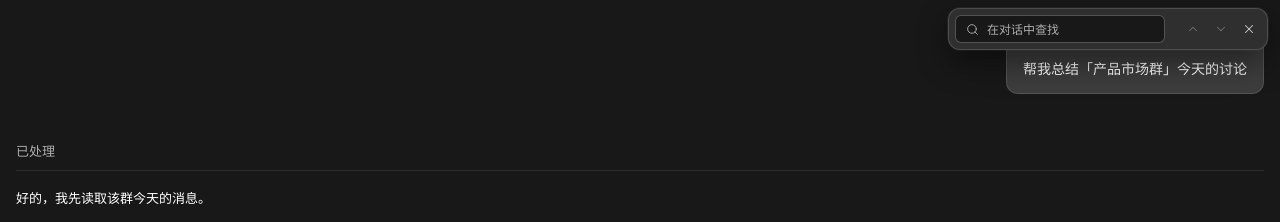
it: rewind, fork and find › opens the find bar on request, reports no results, and closes with Esc
Type "找不到的词" into the search field labelled "在对话中查找" at (1072,29), box top-left (987, 16), bottom-right (1158, 42)
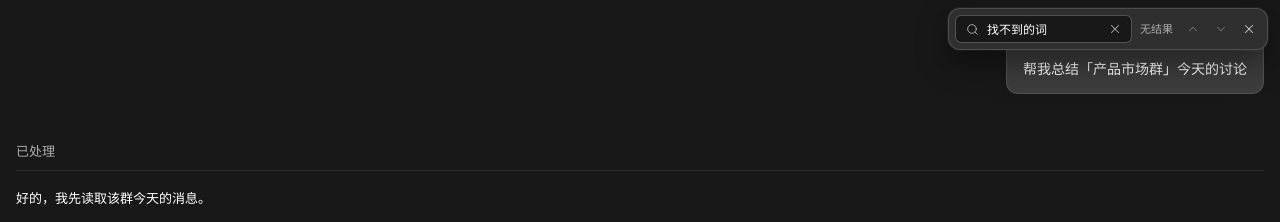
Expected: the text "无结果" is shown, top-left (1140, 21), bottom-right (1173, 36)
Replace the text in the search field named "在对话中查找" with "产品市场群" at (1042,29), box top-left (987, 16), bottom-right (1097, 42)
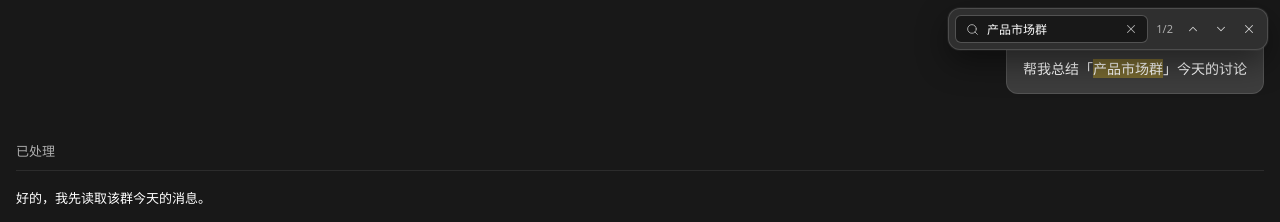
Expected: the text "1/2" is shown, top-left (1156, 21), bottom-right (1173, 36)
Press Escape in the search field named "在对话中查找", box top-left (987, 16), bottom-right (1113, 42)
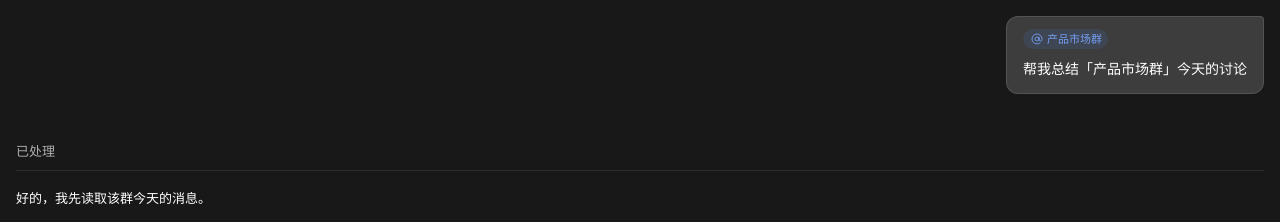
Expected: the search field labelled "在对话中查找" is gone
